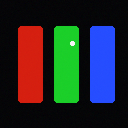0 point: (70, 41, 74, 45)
